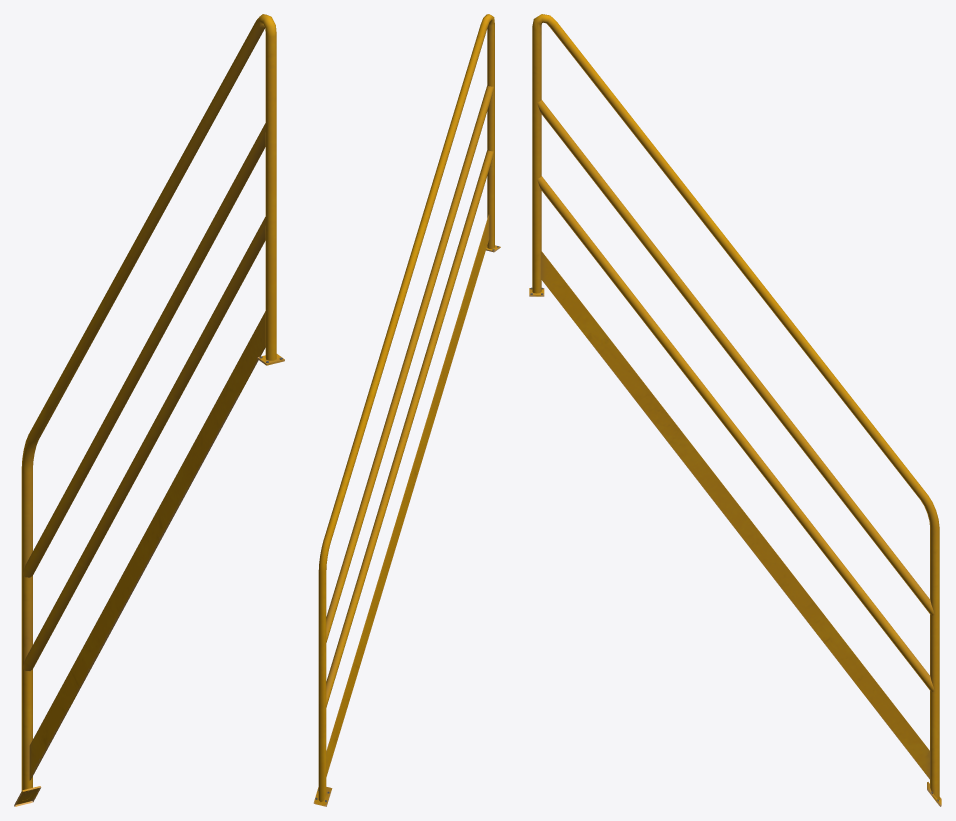
The model's file is SM05_Architecture_MezzanineFloor_01_Handrail_Stairs.fbx.
3 views of the same model, side by side, from view 1: azimuth 30°, elevation 25°; view 2: azimuth 150°, elevation 25°; view 3: azimuth 270°, elevation 25° (orthographic). The views are drawn at different scales.
Visible parts, largest first — view 1: SM05_Architecture_MezzanineFloor_01_Handrail_Stairs; view 2: SM05_Architecture_MezzanineFloor_01_Handrail_Stairs; view 3: SM05_Architecture_MezzanineFloor_01_Handrail_Stairs.
Part boxes in pixels (<box>): SM05_Architecture_MezzanineFloor_01_Handrail_Stairs: <box>14,14,284,806</box>; SM05_Architecture_MezzanineFloor_01_Handrail_Stairs: <box>313,14,500,806</box>; SM05_Architecture_MezzanineFloor_01_Handrail_Stairs: <box>529,14,941,806</box>.
Bounding box in the file's own units: 0.055 × 2.77 × 1.31.
